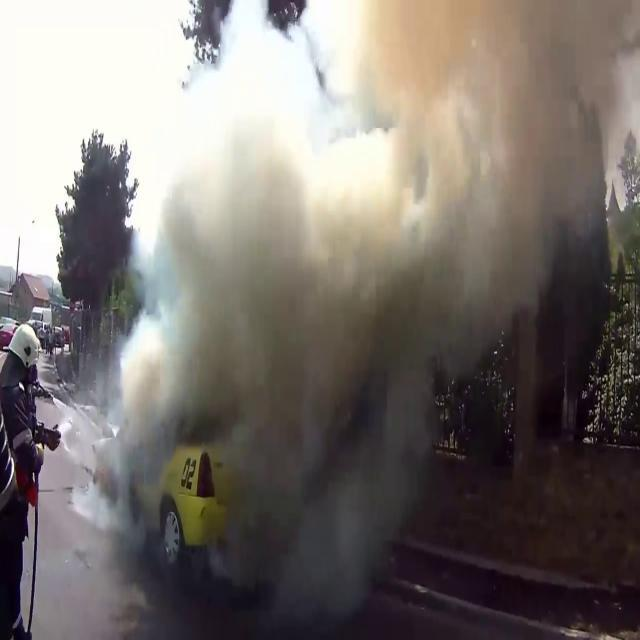Smoke: (77, 0, 635, 539)
